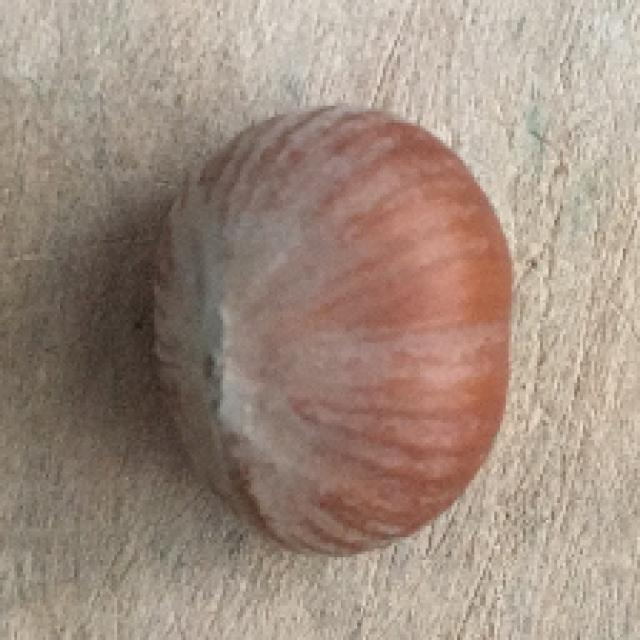qualityHazelnut: (128, 110, 526, 559)
